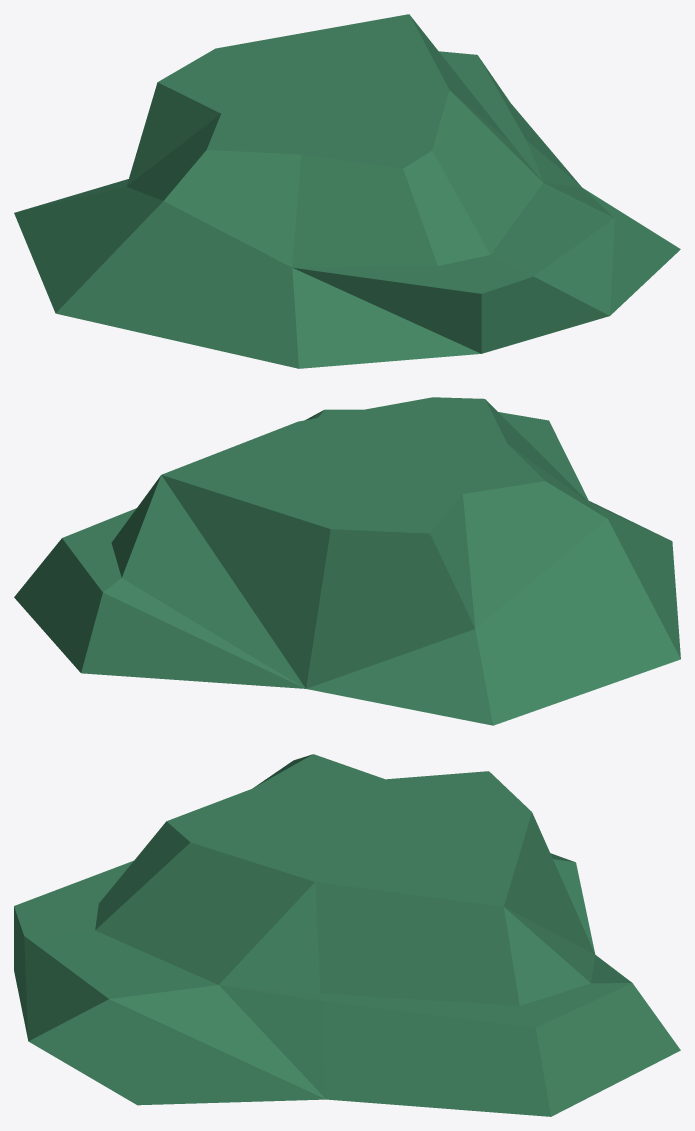
The model's file is SM_Env_Mounds.fbx.
3 views of the same model, one above another, from view 1: azimuth 30°, elevation 25°; view 2: azimuth 150°, elevation 25°; view 3: azimuth 270°, elevation 25° (orthographic). The views are drawn at different scales.
Parts seen in each view (by area): view 1: SM_Env_Mounds; view 2: SM_Env_Mounds; view 3: SM_Env_Mounds.
Boxes of the visible parts, bbox=[...] form: SM_Env_Mounds: bbox=[14, 14, 680, 368]; SM_Env_Mounds: bbox=[14, 397, 680, 725]; SM_Env_Mounds: bbox=[14, 754, 680, 1116].
Bounding box in the file's own units: 262 × 60.83 × 253.
